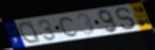3: (77, 12, 98, 37), (38, 18, 57, 41)
9: (96, 9, 119, 33)
C: (58, 16, 80, 38)
Q: (17, 20, 43, 44)
S: (115, 6, 139, 31)
